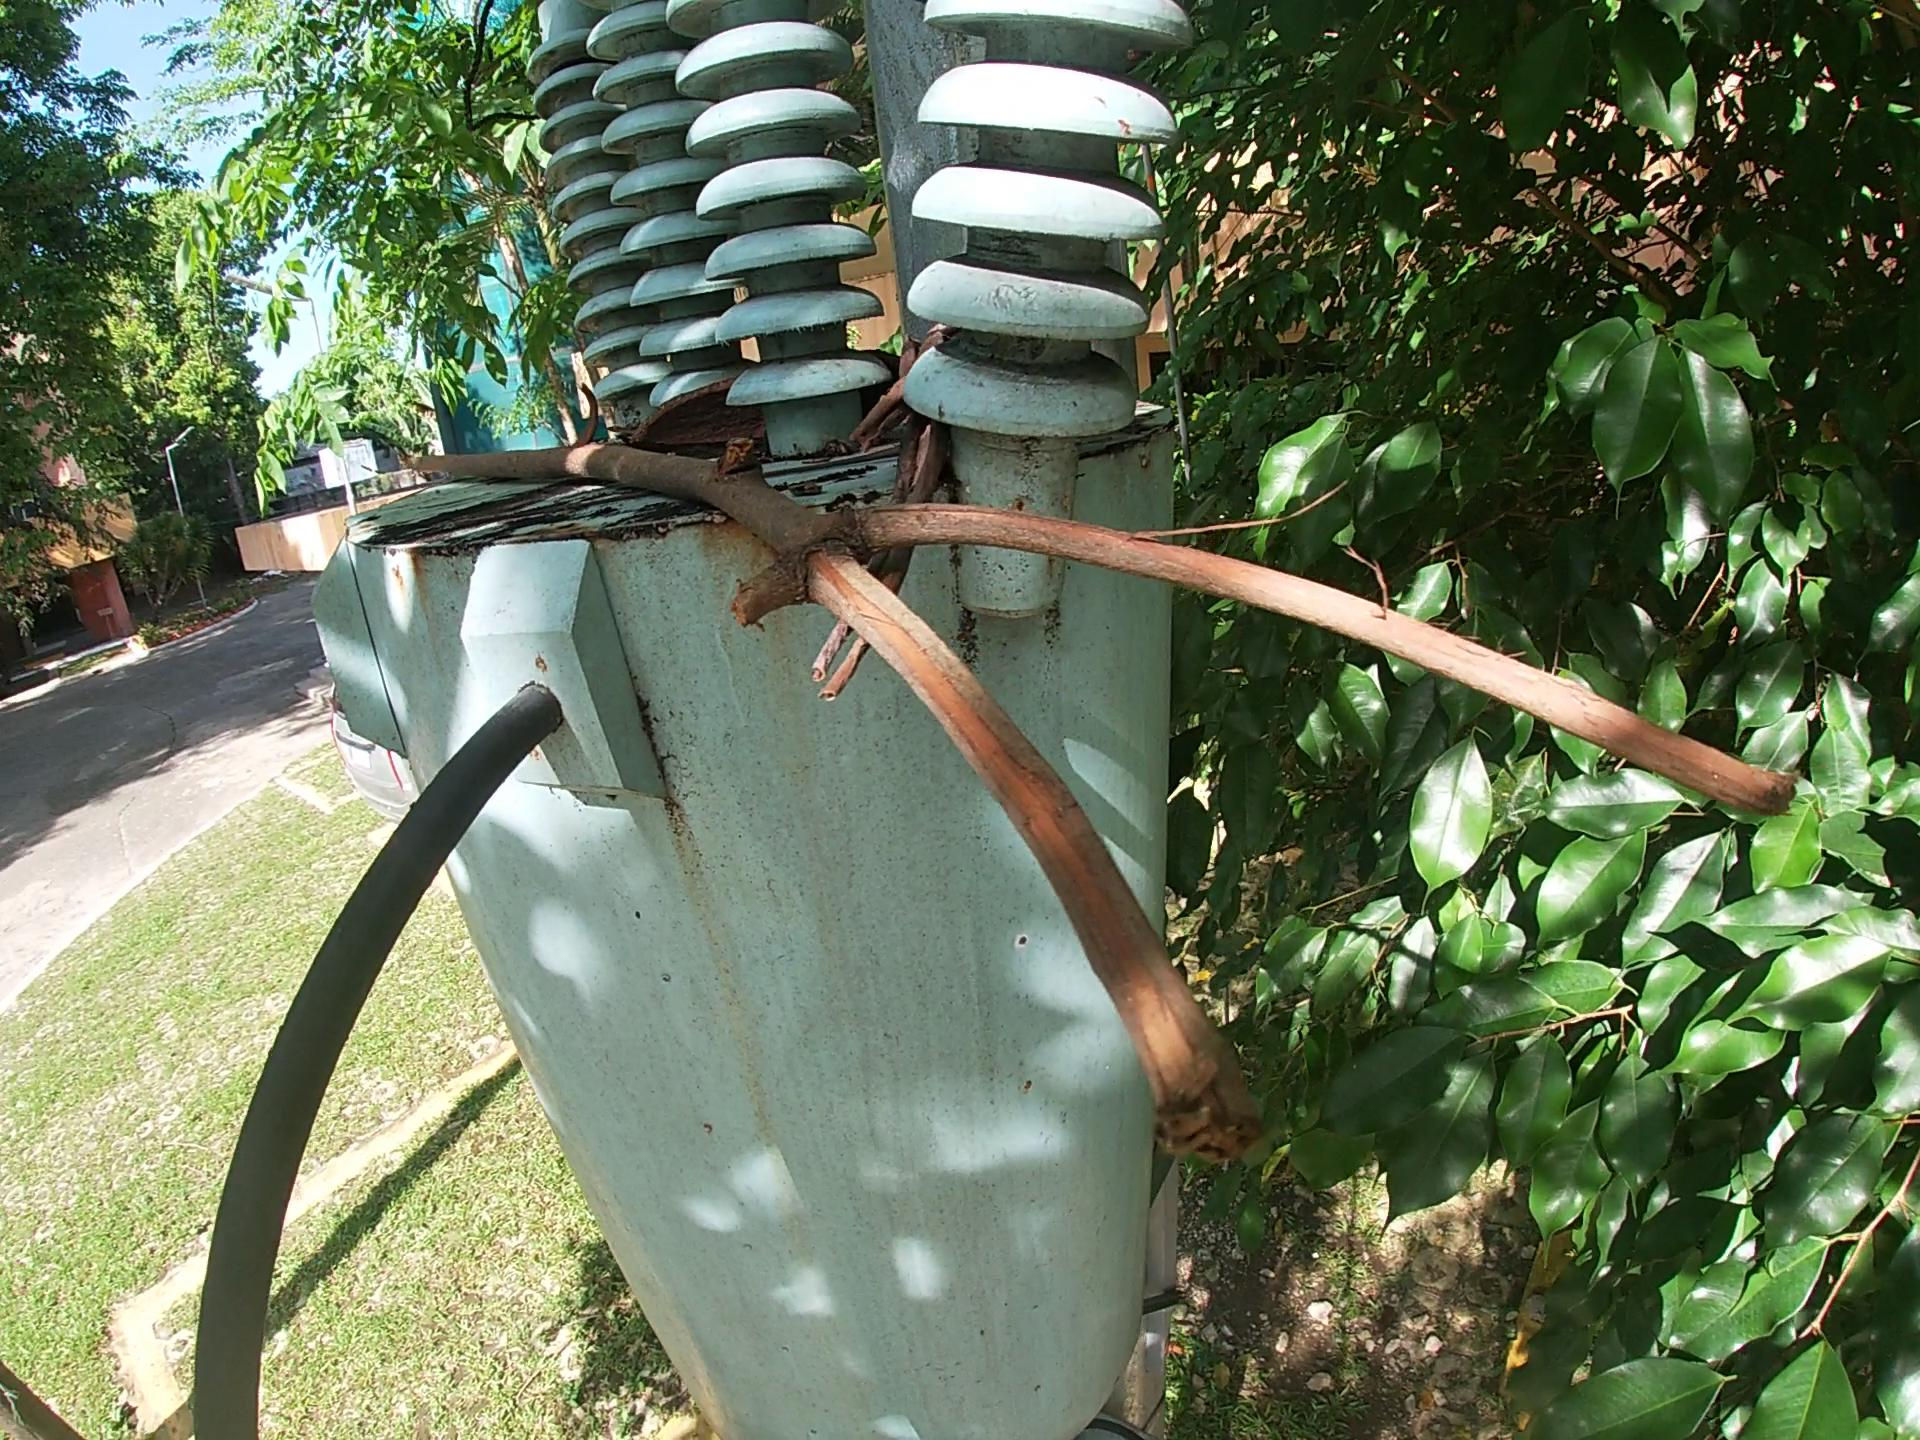mahogany fruit: (624, 342, 906, 461), (568, 380, 602, 446)
tree branch: (398, 433, 1805, 1178), (797, 327, 960, 718)
